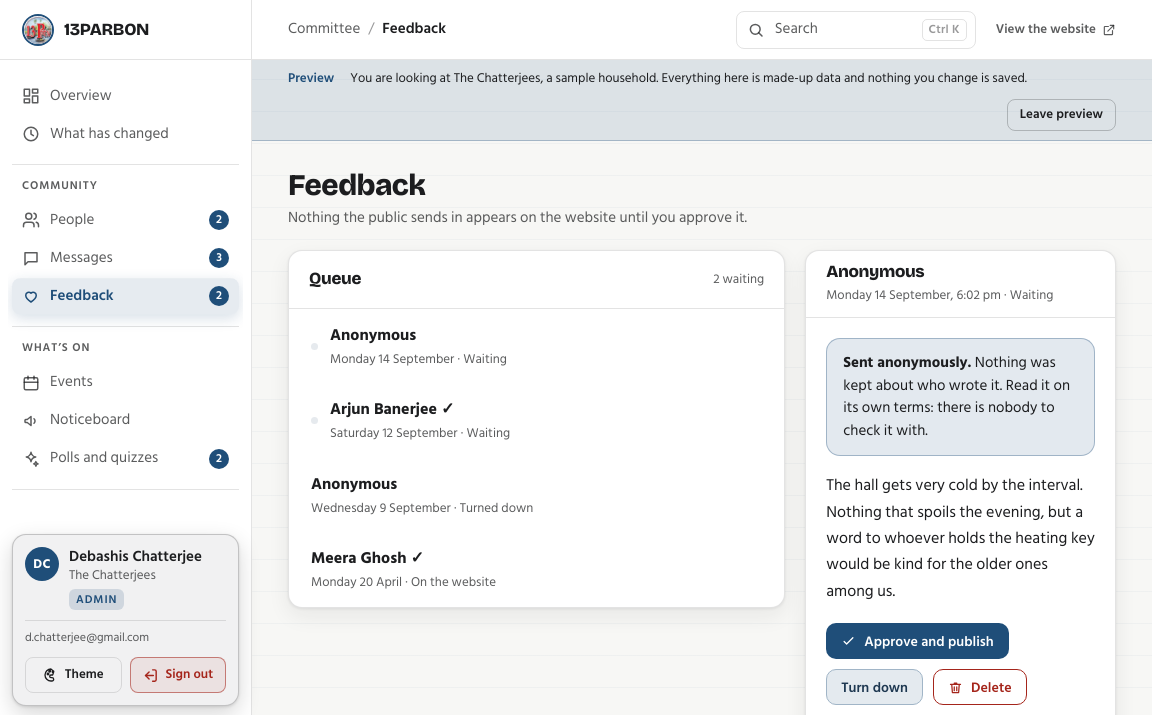
the feedback queue › says where a name came from, where there is one
Expected: the heading "Feedback" is shown, 288,166 -> 425,202
Click the button "Arjun Banerjee ✓ Saturday 12 September · Waiting".
click(384, 409)  # box 289,383 -> 784,458
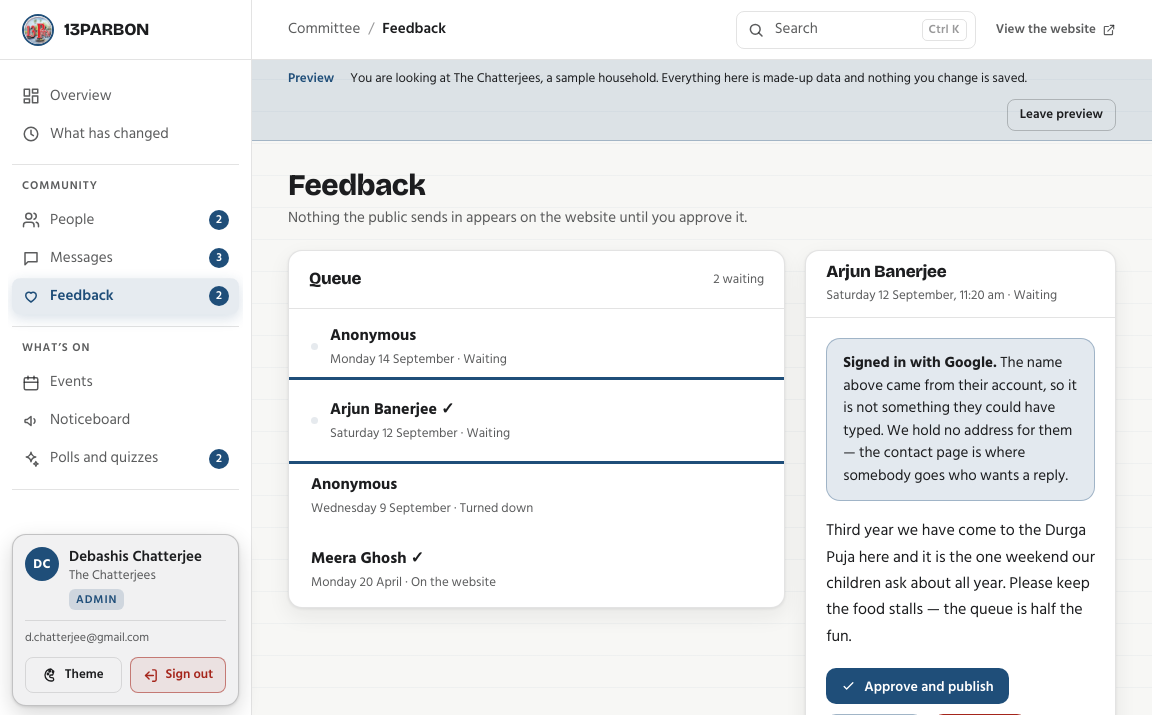
Result: the text "came from their account" is shown at 843,350 -> 1077,488
